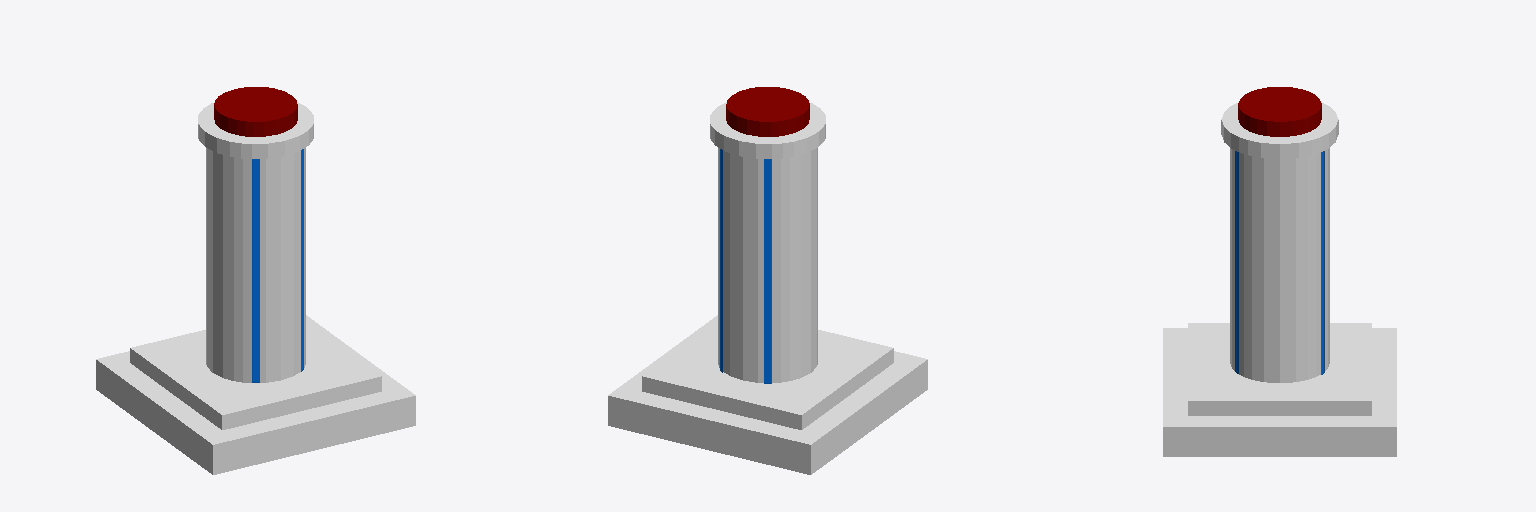
3 views of the same model, side by side, from view 1: azimuth 30°, elevation 25°; view 2: azimuth 150°, elevation 25°; view 3: azimuth 270°, elevation 25° (orthographic).
Parts seen in each view (by area): view 1: Part3, Bottom1, Part1, Button1, Part2, Part5; view 2: Part3, Bottom1, Part1, Button1, Part2, Part4; view 3: Part3, Bottom1, Part1, Button1, Part2, Part4, Part5.
Boxes of the visible parts, box(x1,y1,x2,y2) form: Part3: box(206, 148, 305, 382); Bottom1: box(96, 315, 415, 474); Part1: box(130, 321, 381, 429); Button1: box(214, 87, 297, 136); Part2: box(198, 102, 313, 158); Part5: box(252, 149, 303, 382); Part3: box(718, 148, 817, 382); Bottom1: box(608, 315, 927, 474); Part1: box(642, 321, 893, 429); Button1: box(726, 87, 809, 136); Part2: box(710, 102, 825, 158); Part4: box(720, 149, 771, 383); Part3: box(1230, 148, 1329, 382); Bottom1: box(1163, 328, 1396, 456); Part1: box(1188, 323, 1371, 415); Button1: box(1238, 87, 1321, 136); Part2: box(1221, 102, 1338, 158); Part4: box(1321, 151, 1324, 374); Part5: box(1235, 151, 1238, 373).
Bounding box in the file's own units: 2.8 × 4 × 2.8.
3 materials, 1 textured.